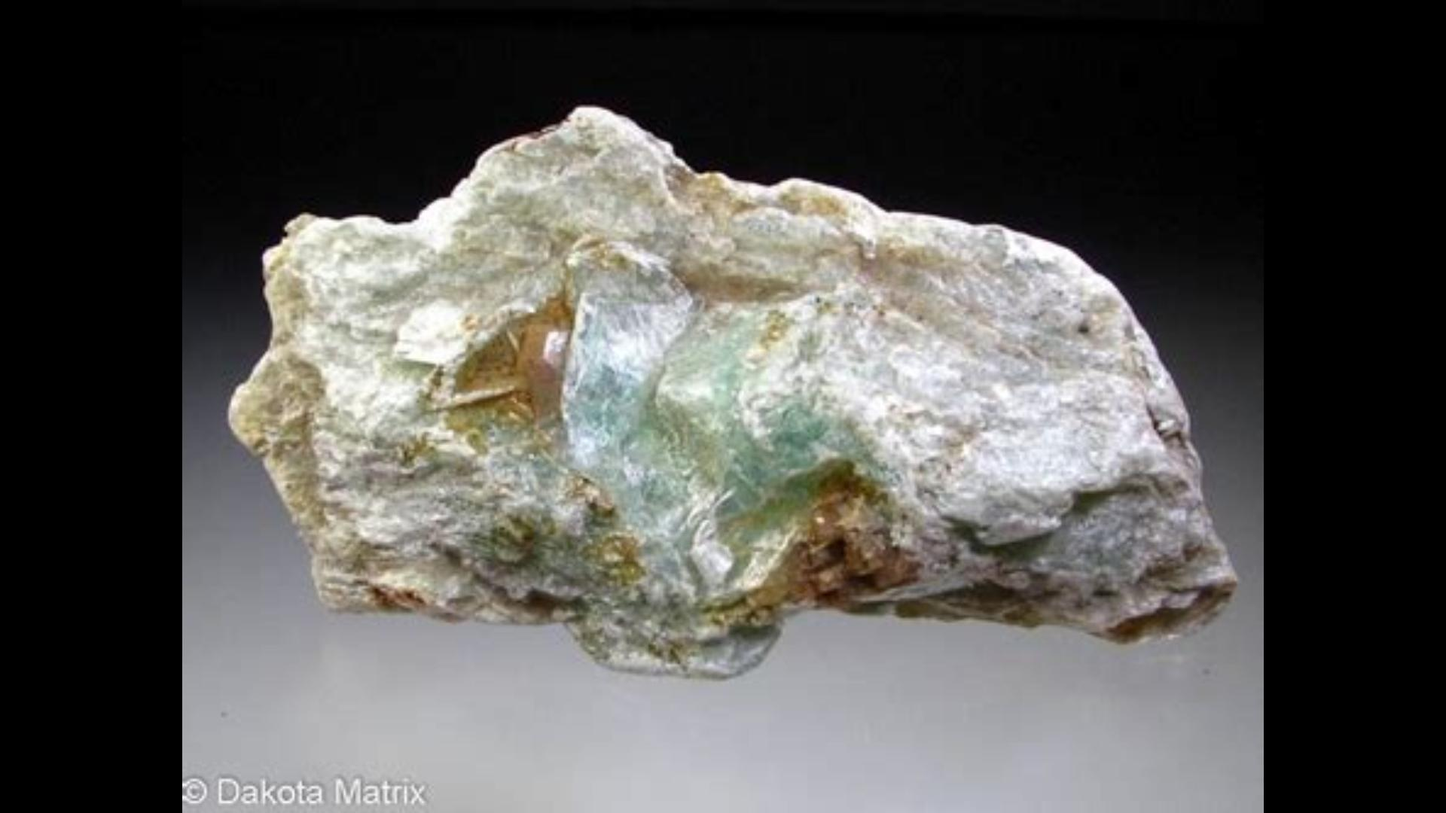rock: (231, 110, 1228, 674)
